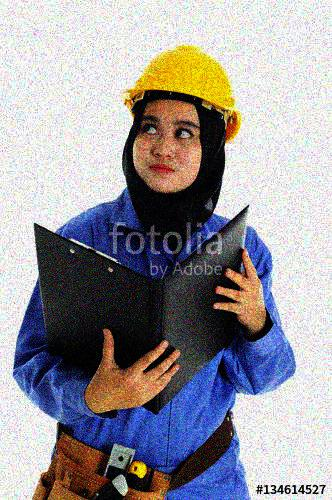helmet: (126, 44, 241, 189)
